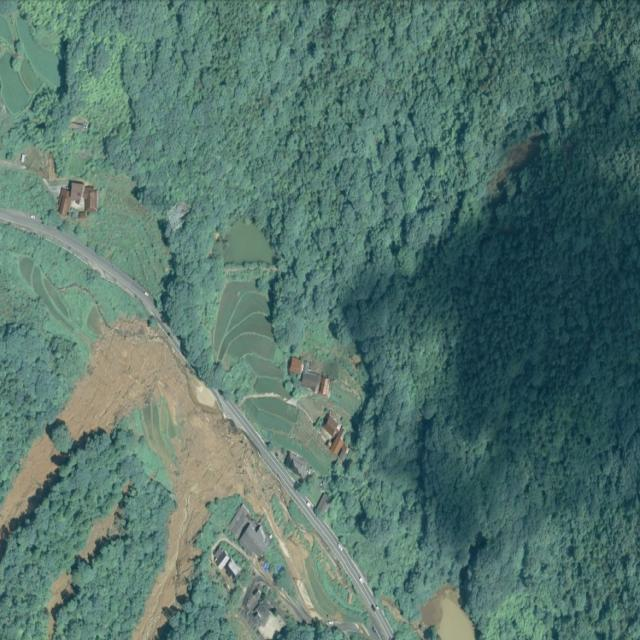landslide: (58, 320, 309, 640), (0, 434, 60, 545)
